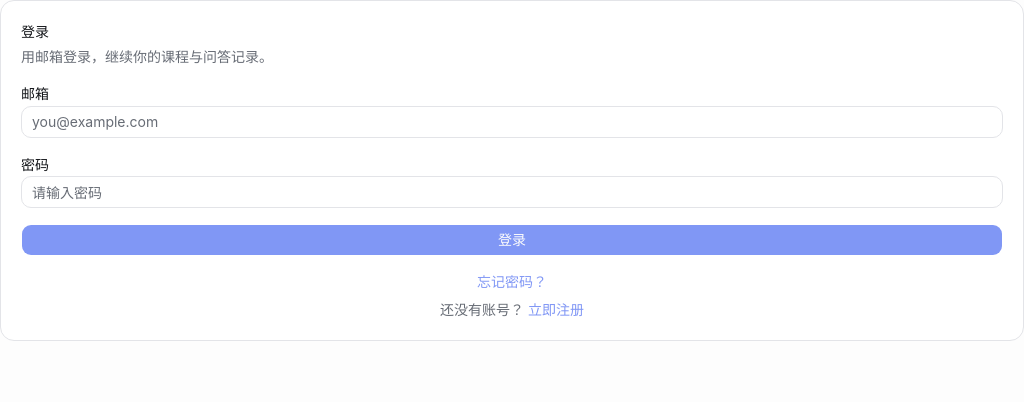
it: LoginPage · 登录 › 邮箱格式非法时就地报错且不写会话
Type "not-an-email" into the field labelled "邮箱" at point(512, 122), box 21,106 -> 1003,138
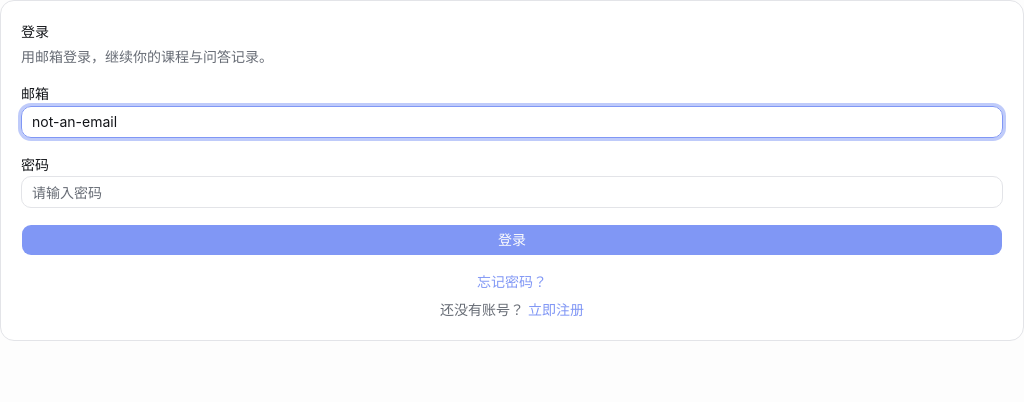
Click the button "登录" at point(512, 240), box 21,224 -> 1003,256
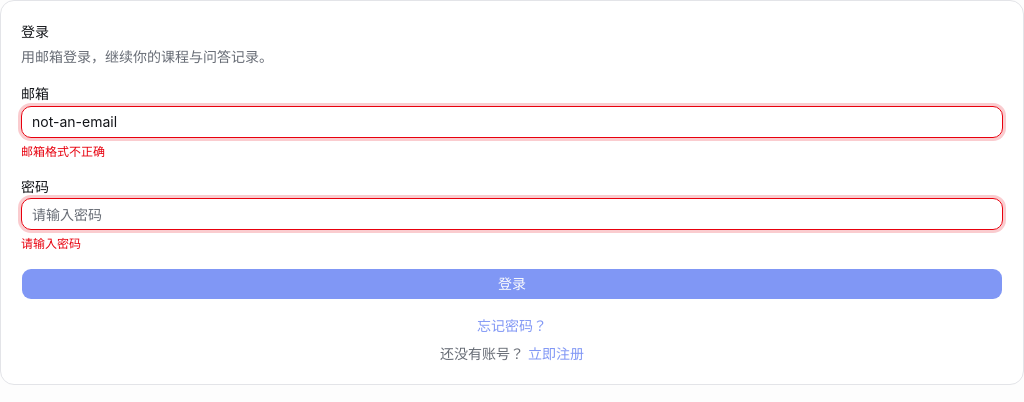
Check: the text "邮箱格式不正确" is shown, box 21,144 -> 105,159
